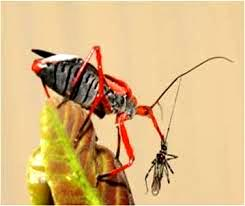Helopeltis-insect: (25, 41, 166, 129), (143, 140, 174, 196)
